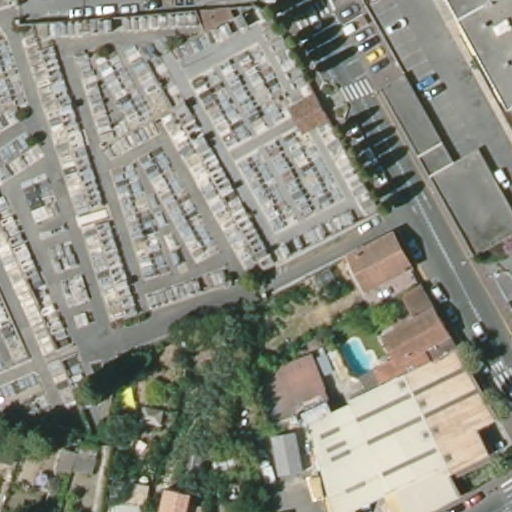pool: (336, 331, 379, 376)
